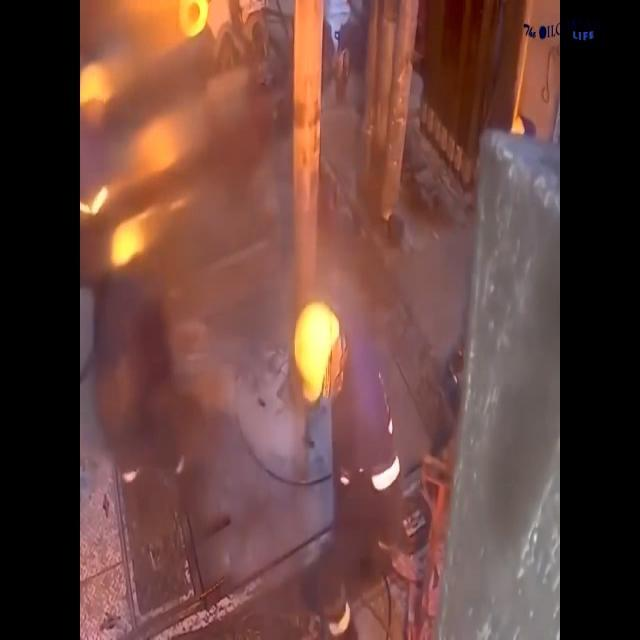spillage: (175, 328, 309, 481)
